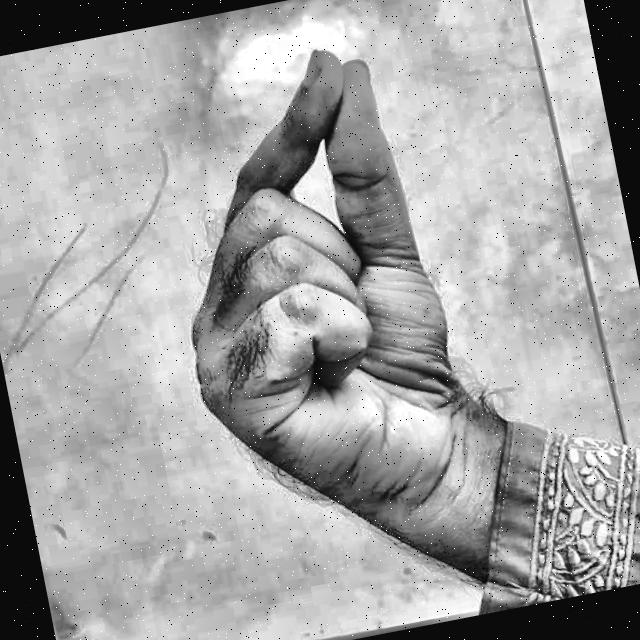Anusshar: (100, 2, 568, 622)
